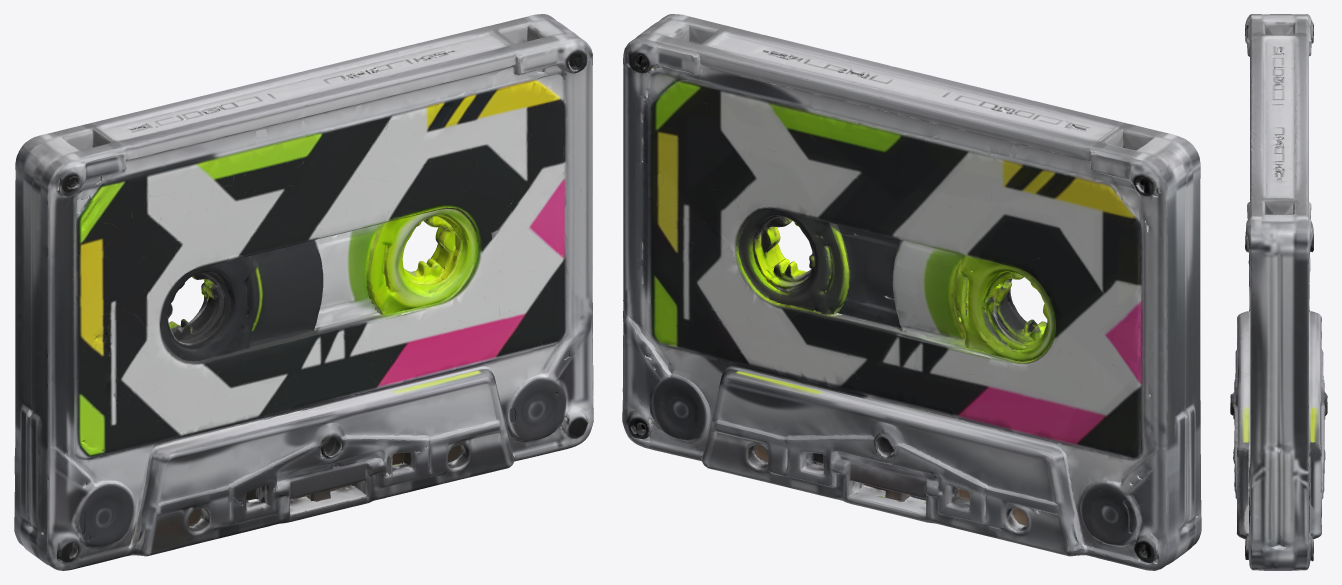
File: u_prp_cassette_tape.glb
3 views of the same model, side by side, from view 1: azimuth 30°, elevation 25°; view 2: azimuth 150°, elevation 25°; view 3: azimuth 270°, elevation 25° (orthographic). The views are drawn at different scales.
Parts seen in each view (by area): view 1: geometry_0; view 2: geometry_0; view 3: geometry_0.
Part boxes in pixels (x1,y1,x2,y2): geometry_0: (14, 14, 593, 570); geometry_0: (622, 14, 1201, 570); geometry_0: (1230, 14, 1327, 570).
Size of the model in its own units: 0.103 by 0.0738 by 0.0187.
Materials: 1 (1 with a texture image).
